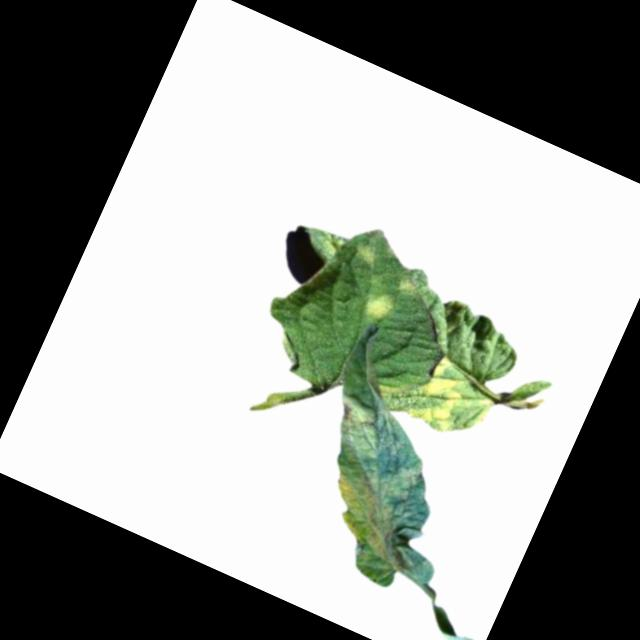Leaf_Mold: (314, 466, 414, 559), (405, 351, 478, 435), (325, 390, 397, 455), (361, 286, 401, 328), (396, 271, 425, 300), (352, 238, 381, 266)
